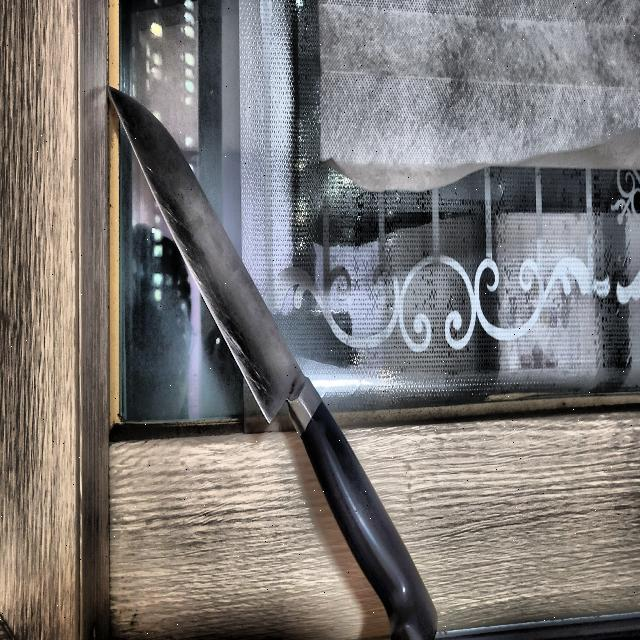knife: (105, 80, 436, 640)
